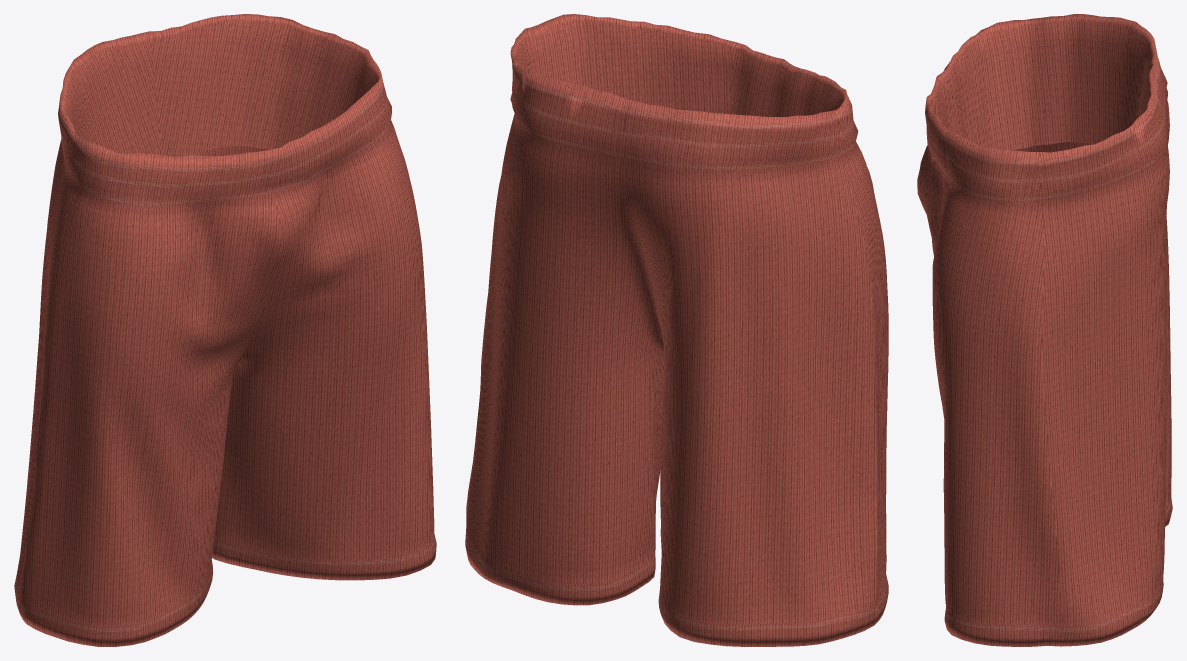
Rendered from shorts.glb.
3 views of the same model, side by side, from view 1: azimuth 30°, elevation 25°; view 2: azimuth 150°, elevation 25°; view 3: azimuth 270°, elevation 25° (orthographic). The views are drawn at different scales.
Parts seen in each view (by area): view 1: Object_2; view 2: Object_2; view 3: Object_2.
Boxes of the visible parts, left/top/right/bottom form: Object_2: left=14, top=14, right=436, bottom=646; Object_2: left=465, top=14, right=888, bottom=646; Object_2: left=917, top=14, right=1172, bottom=646.
Bounding box in the file's own units: 0.4904 × 0.6261 × 0.2905.
Materials: 1 (1 with a texture image).
